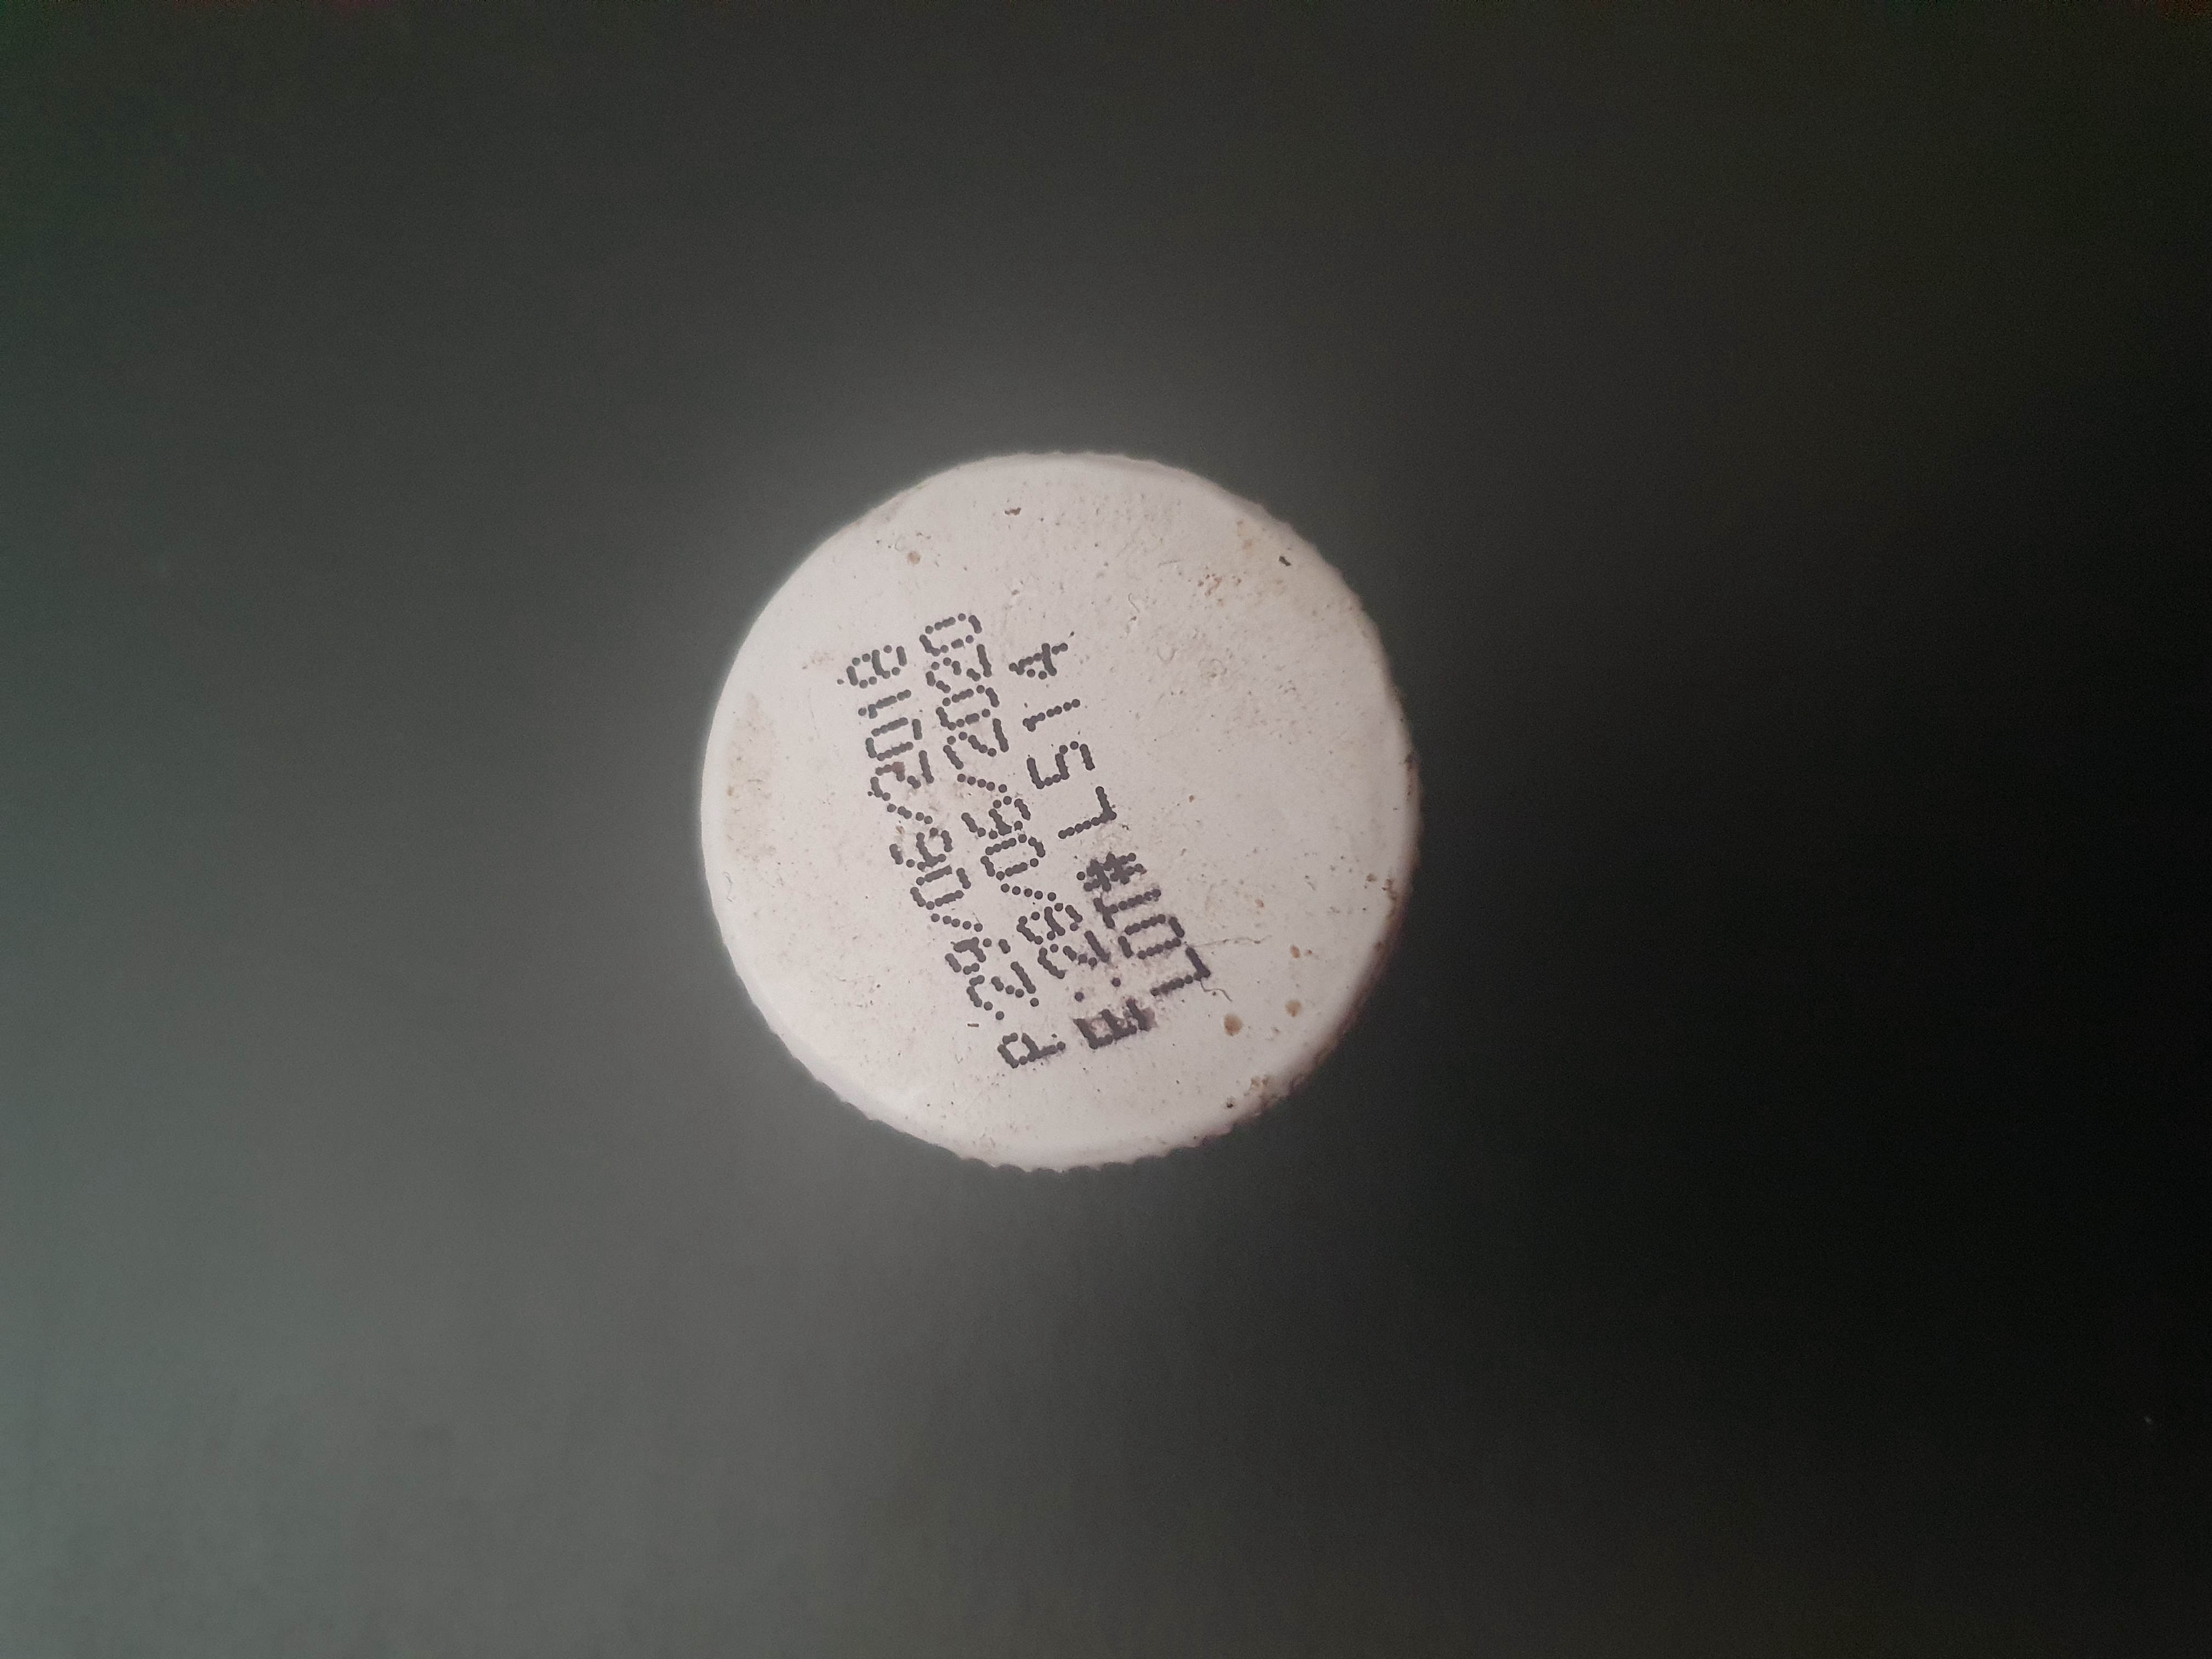metal: (683, 394, 1444, 1199)
